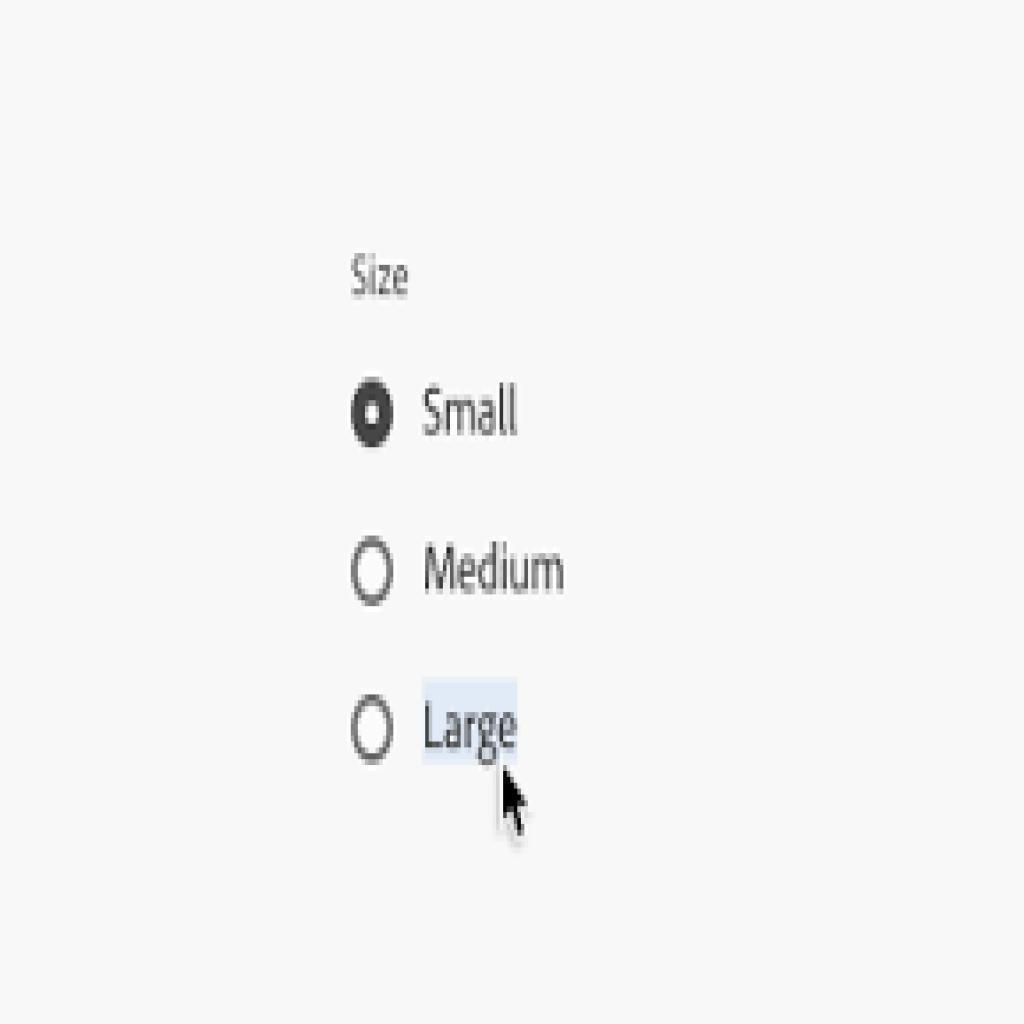radio: (346, 537, 401, 607), (351, 694, 396, 770), (351, 377, 395, 450)
